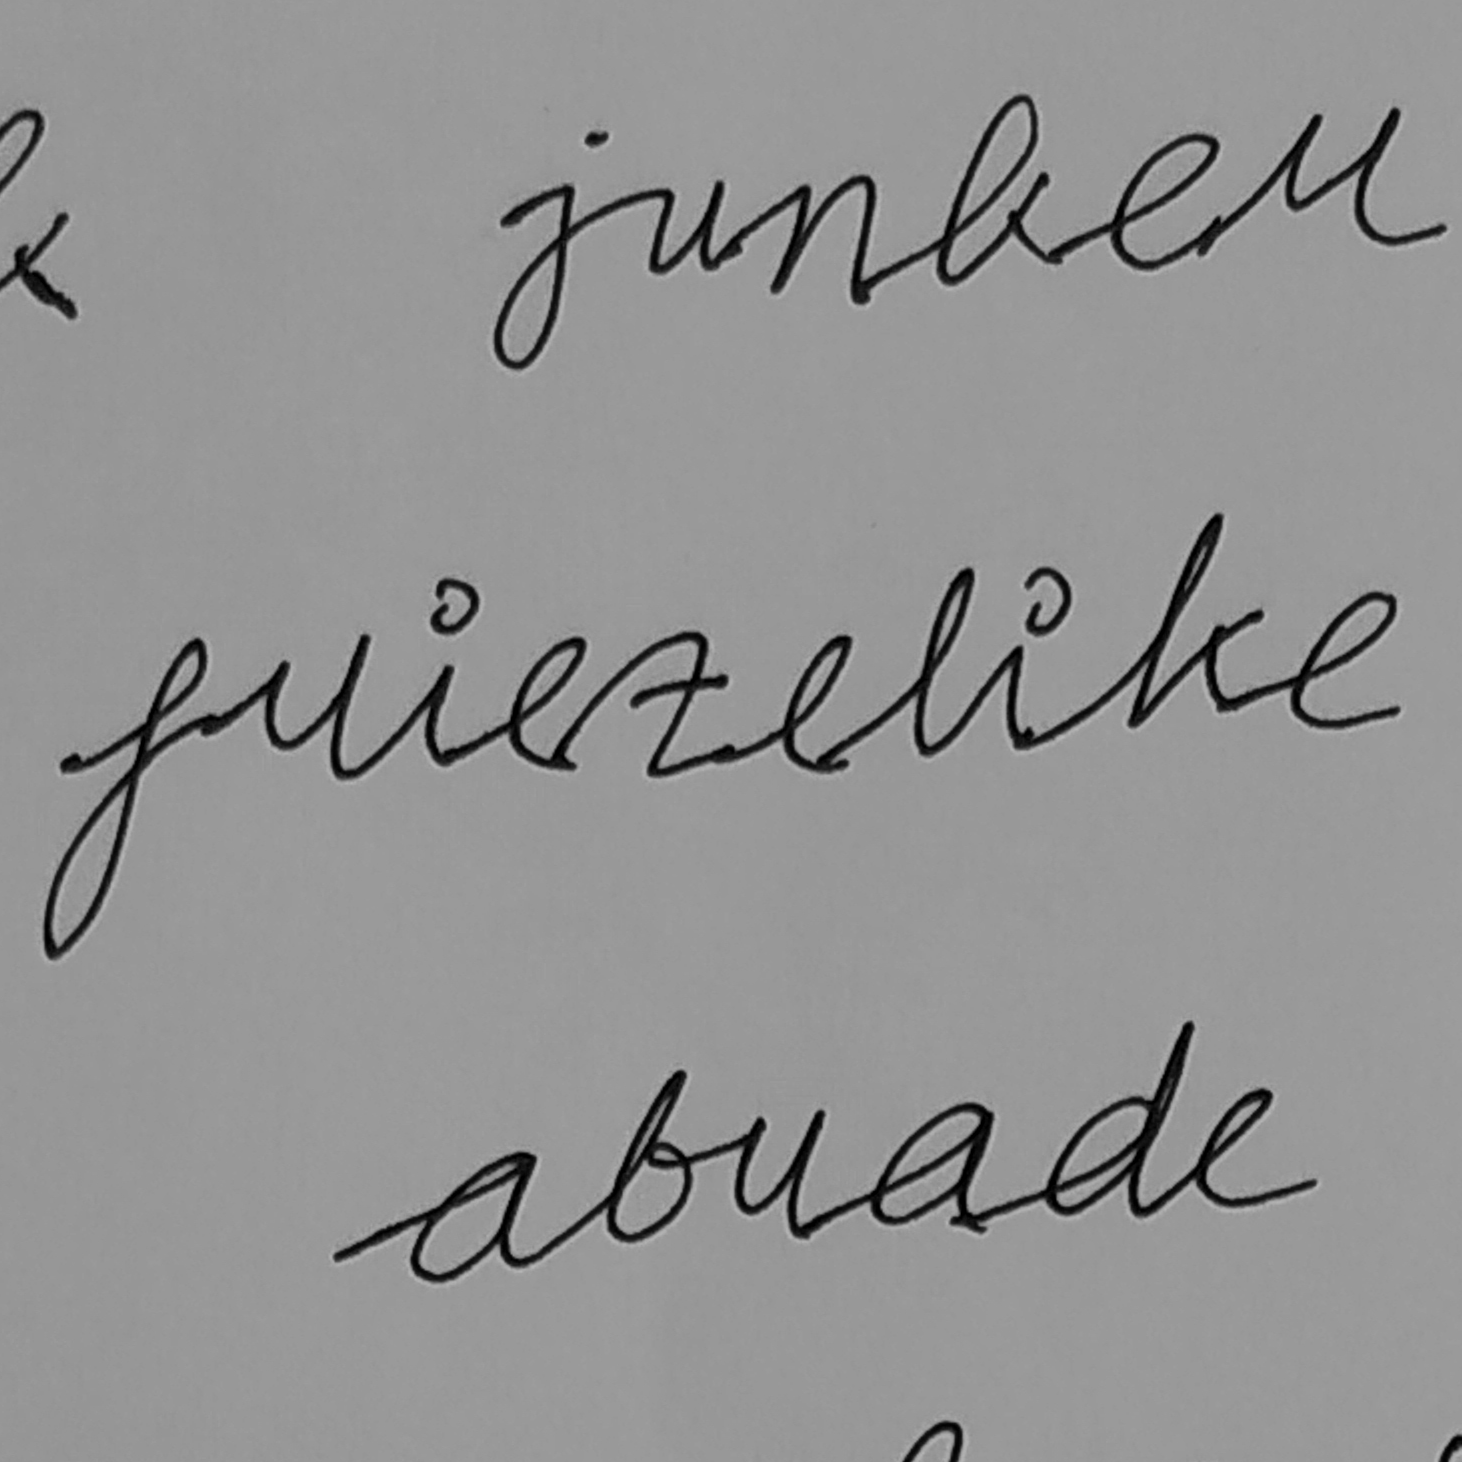e: (1287, 586, 1404, 732), (779, 631, 868, 781), (503, 631, 590, 778)
f: (33, 633, 214, 964)
i: (997, 562, 1076, 756), (416, 572, 485, 777)
k: (1121, 507, 1267, 736)
l: (908, 561, 977, 760)
r: (249, 631, 375, 791)
z: (620, 624, 739, 785)
